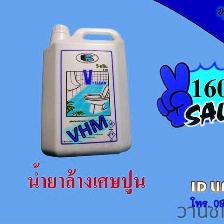cleaning_solution: (36, 21, 136, 161)
